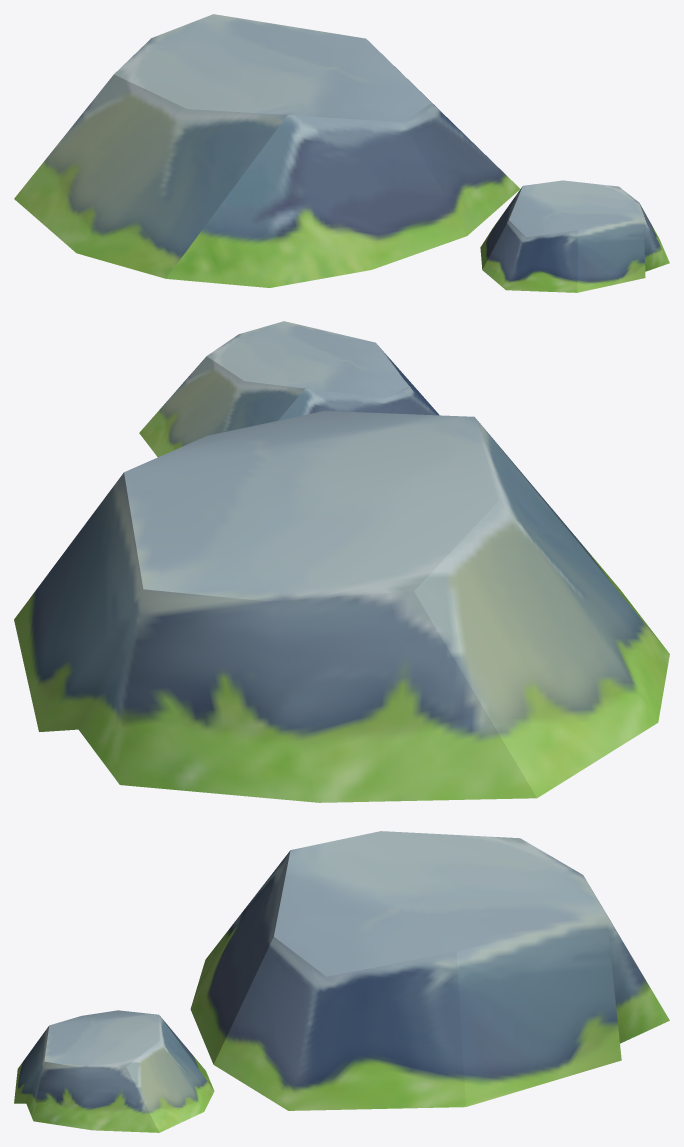
File: sucai_22.FBX
3 renders of one model, top to bottom at view 1: azimuth 30°, elevation 25°; view 2: azimuth 150°, elevation 25°; view 3: azimuth 270°, elevation 25°, orthographic. The views are drawn at different scales.
Parts seen in each view (by area): view 1: sucai_22; view 2: sucai_22; view 3: sucai_22.
Boxes of the visible parts, box(x1,y1,x2,y2) form: sucai_22: box(14, 14, 669, 292); sucai_22: box(14, 321, 669, 802); sucai_22: box(14, 831, 669, 1132).
Size of the model in its own units: 96.61 by 26.7 by 113.
